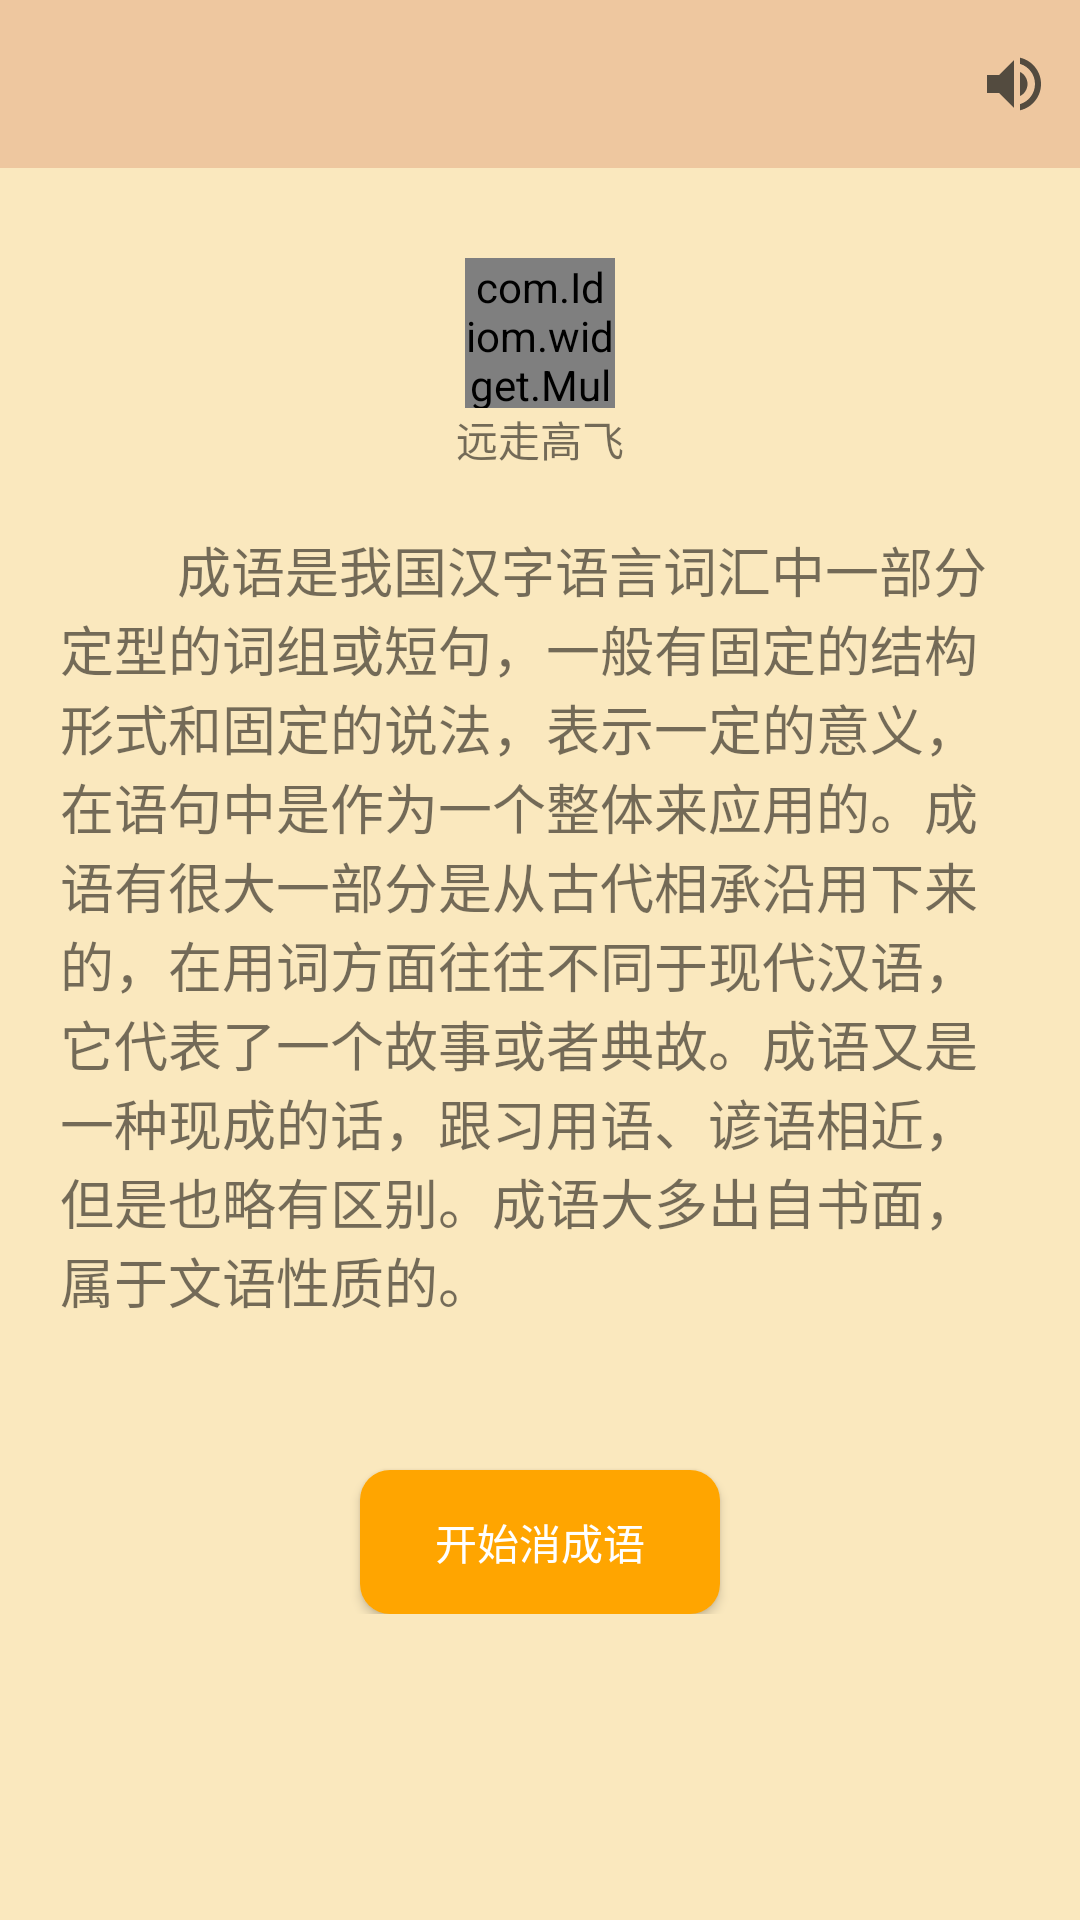

Point at icon controls on the screen. Image size 1080 × 1920, points as point (x, y).
volume up: point (1014, 84)
